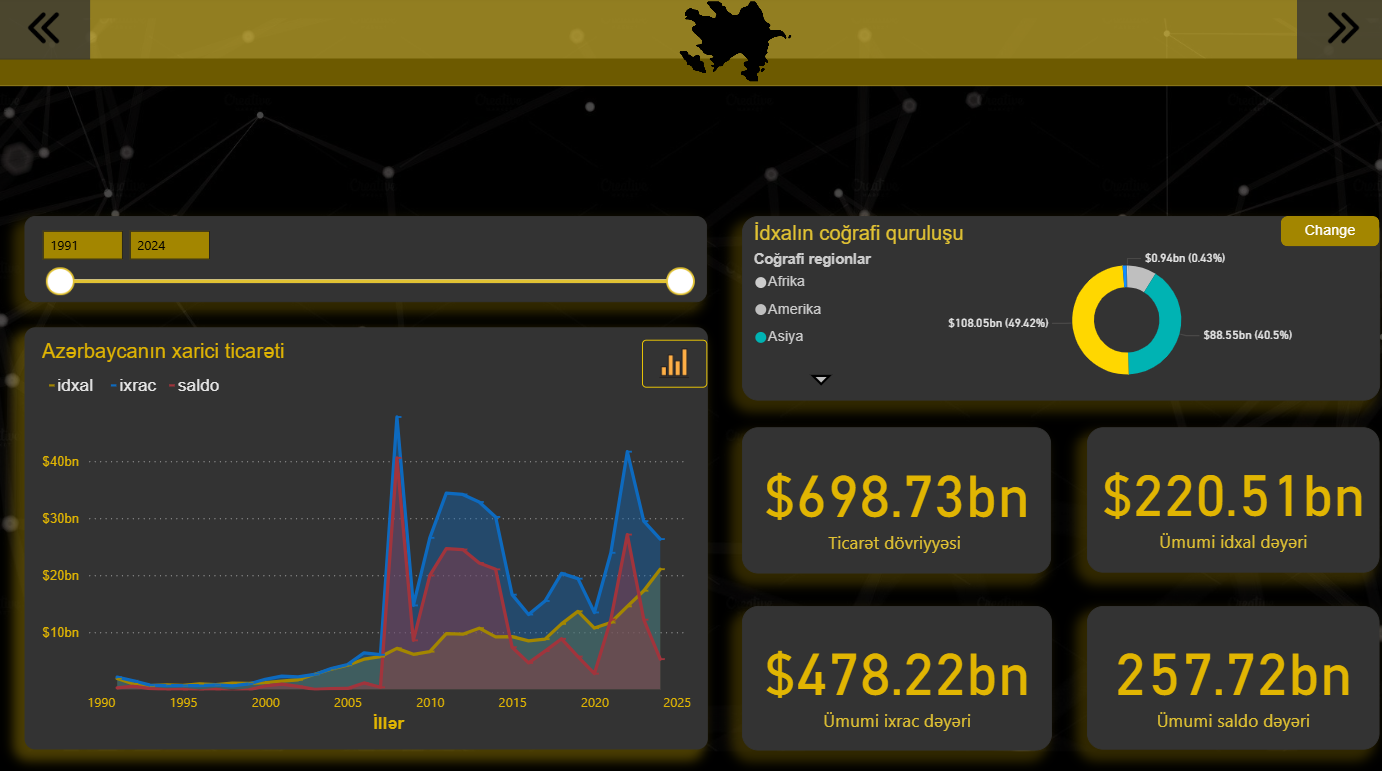

What the dashboard file says about the page in this screenshot:
{"tool":"powerbi","page":{"name":"İlkin analiz","canvas":[1280,720],"ordinal":1},"visuals":[{"type":"card","fields":{"Values":["Sum(Xarici ticarət dövriyyəsinin dinamikası.ixrac (dollar))"]},"box":[684.9,560.5,284.9,132.6],"z":1000},{"type":"card","fields":{"Values":["Sum(Xarici ticarət dövriyyəsinin dinamikası.idxal (dollar))"]},"box":[1001.7,396.3,268.8,133.2],"z":2000},{"type":"card","title":"ümumi saldo","fields":{"Values":["Sum(Xarici ticarət dövriyyəsinin dinamikası.saldo (dollar))"]},"box":[1001.7,560.6,268.8,132.1],"z":3000},{"type":"areaChart","title":"Azərbaycanın xarici ticarəti","fields":{"Category":["Xarici ticarət dövriyyəsinin dinamikası.İllər"],"Y":["Sum(Xarici ticarət dövriyyəsinin dinamikası.idxal (dollar))","Sum(Xarici ticarət dövriyyəsinin dinamikası.ixrac (dollar))","Sum(Xarici ticarət dövriyyəsinin dinamikası.saldo (dollar))"]},"box":[25.3,304.4,628.3,388.3],"z":4000},{"type":"slicer","fields":{"Values":["Xarici ticarət dövriyyəsinin dinamikası.İllər"]},"box":[25.3,202.2,627.2,79.3],"z":6000},{"type":"card","fields":{"Values":["Sum(Xarici ticarət dövriyyəsinin dinamikası.ticarət dövriyyəsi (dollar))"]},"box":[685.2,396,284.3,134.1],"z":7000},{"type":"shape","box":[0,0,1280,82.9],"z":8000},{"type":"shape","box":[0,57.8,1279.7,24.6],"z":9000},{"type":"image","box":[1194.1,0,85.6,58.3],"z":10000},{"type":"image","box":[0,0,85.6,58.3],"z":11000},{"type":"donutChart","title":"İdxalın coğrafi quruluşu","fields":{"Category":["İdxalın coğrafi quruluşu.Coğrafi regionlar"],"Y":["Sum(İdxalın coğrafi quruluşu.idxal)"]},"box":[684.9,202.3,586,169.8],"z":12000},{"type":"shape","box":[1181.4,202.3,89.5,27.9],"z":14000},{"type":"shape","box":[1179.6,202.2,90.6,27.9],"z":15000},{"type":"image","box":[592.7,315.9,59.7,43.7],"z":16000},{"type":"image","box":[623.2,0,111.9,83],"z":17000}]}

Visuals, with their boxes in screenshot pixels (x1, y1, x2, y2), scaled from the page's 1280x720 canvas onto the 1382x771 screenshot:
card - Sum(Xarici ticarət dövriyyəsinin dinamikası.ixrac (dollar)): 739 600 1047 742
card - Sum(Xarici ticarət dövriyyəsinin dinamikası.idxal (dollar)): 1082 424 1372 567
"ümumi saldo" card: 1082 600 1372 742
"Azərbaycanın xarici ticarəti" areaChart: 27 326 706 742
slicer - Xarici ticarət dövriyyəsinin dinamikası.İllər: 27 217 704 301
card - Sum(Xarici ticarət dövriyyəsinin dinamikası.ticarət dövriyyəsi (dollar)): 740 424 1047 568
shape: 0 0 1381 89
shape: 0 62 1381 88
image: 1289 0 1381 62
image: 0 0 92 62
"İdxalın coğrafi quruluşu" donutChart: 739 217 1372 398
shape: 1276 217 1372 247
shape: 1274 217 1371 246
image: 640 338 704 385
image: 673 0 794 89
